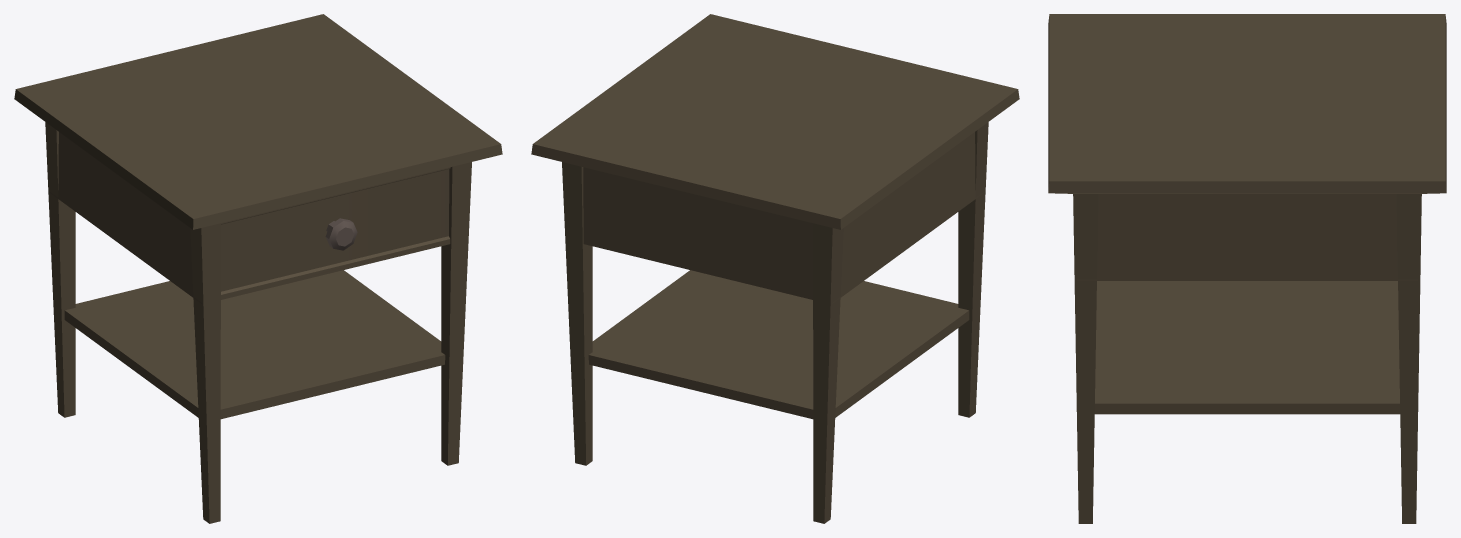
The model's file is NightStand_2.glb.
3 renders of one model, left to right at view 1: azimuth 30°, elevation 25°; view 2: azimuth 150°, elevation 25°; view 3: azimuth 270°, elevation 25°, orthographic. The views are drawn at different scales.
Parts seen in each view (by area): view 1: NightStand_2; view 2: NightStand_2; view 3: NightStand_2.
Boxes of the visible parts, x1=… form: NightStand_2: x1=14, y1=14, x2=502, y2=523; NightStand_2: x1=531, y1=14, x2=1019, y2=523; NightStand_2: x1=1048, y1=14, x2=1446, y2=523.
Size of the model in its own units: 0.2857 by 0.2836 by 0.2857.
